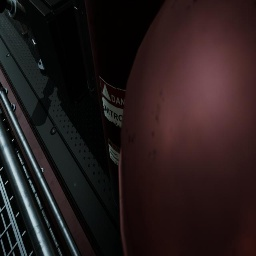NitrogenTank ,: (118, 0, 256, 256), (85, 0, 166, 212)
